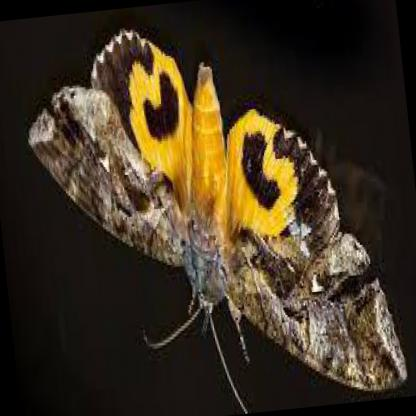fruit sucking moth: (30, 32, 408, 390)
